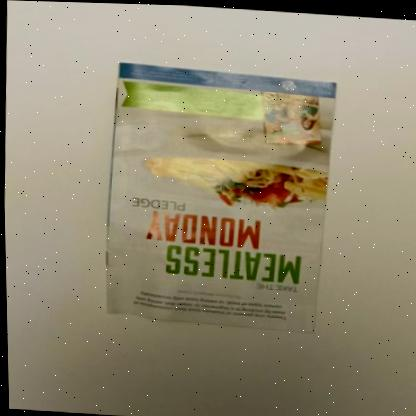Paper: (105, 62, 335, 330)
